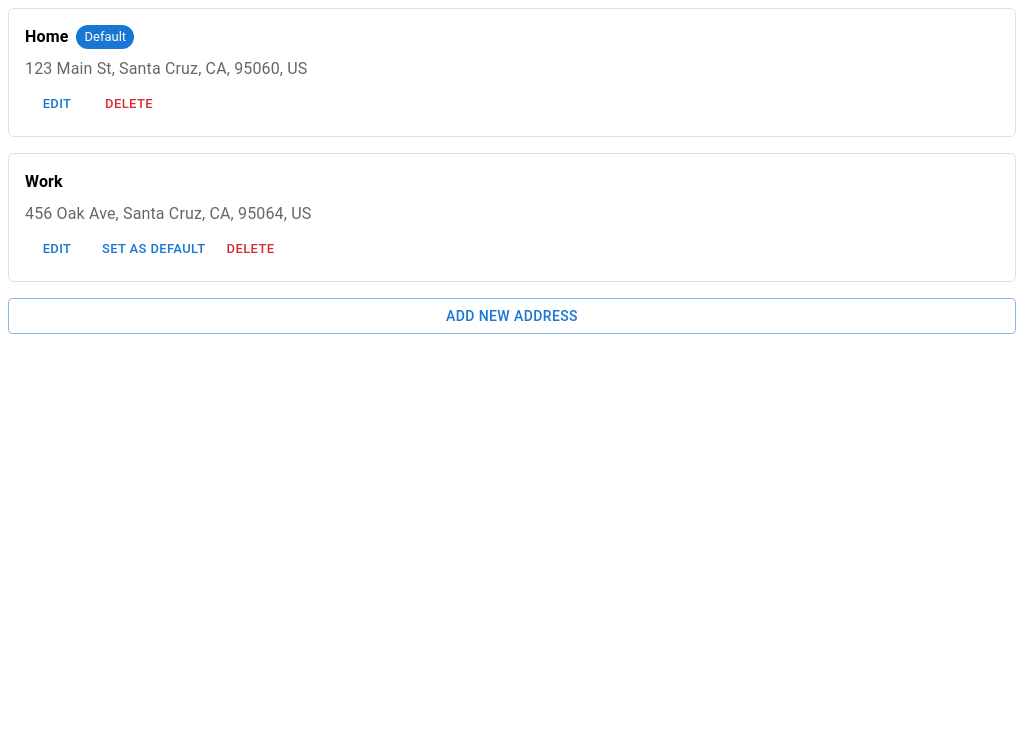
Test: shows the edit form and can cancel editing
Click the button "Edit" below "123 Main St, Santa Cruz, CA, 95060, US" at (57, 104), box [25, 89, 89, 120]
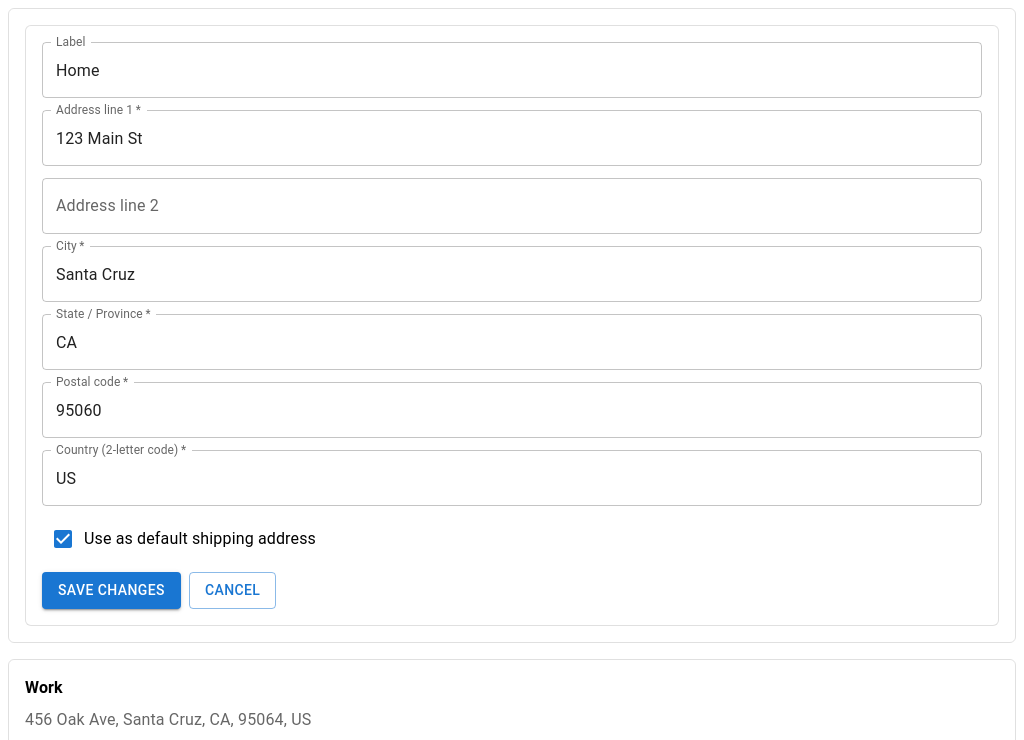
Now the button "Cancel" is shown
Click the button "Cancel" at (233, 590), box [189, 572, 276, 608]
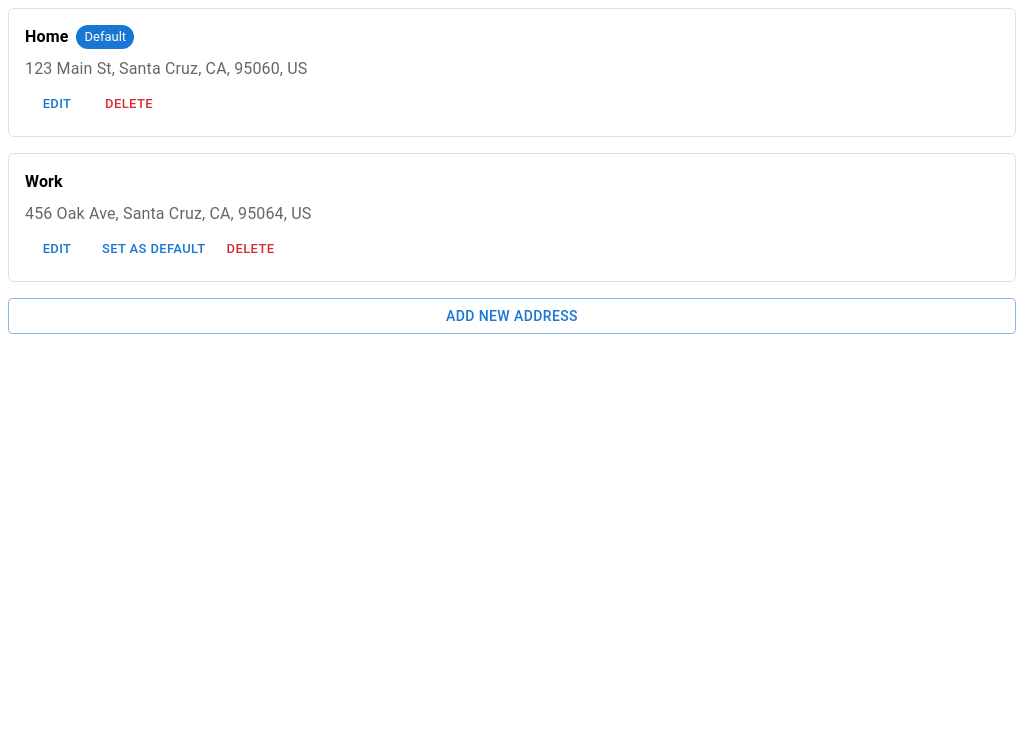
Now the button "Cancel" is gone
